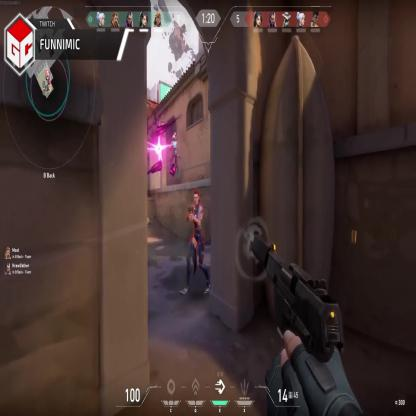enemy: (179, 190, 211, 294), (168, 132, 181, 178)
enemy_head: (192, 190, 200, 206), (171, 133, 176, 143)
